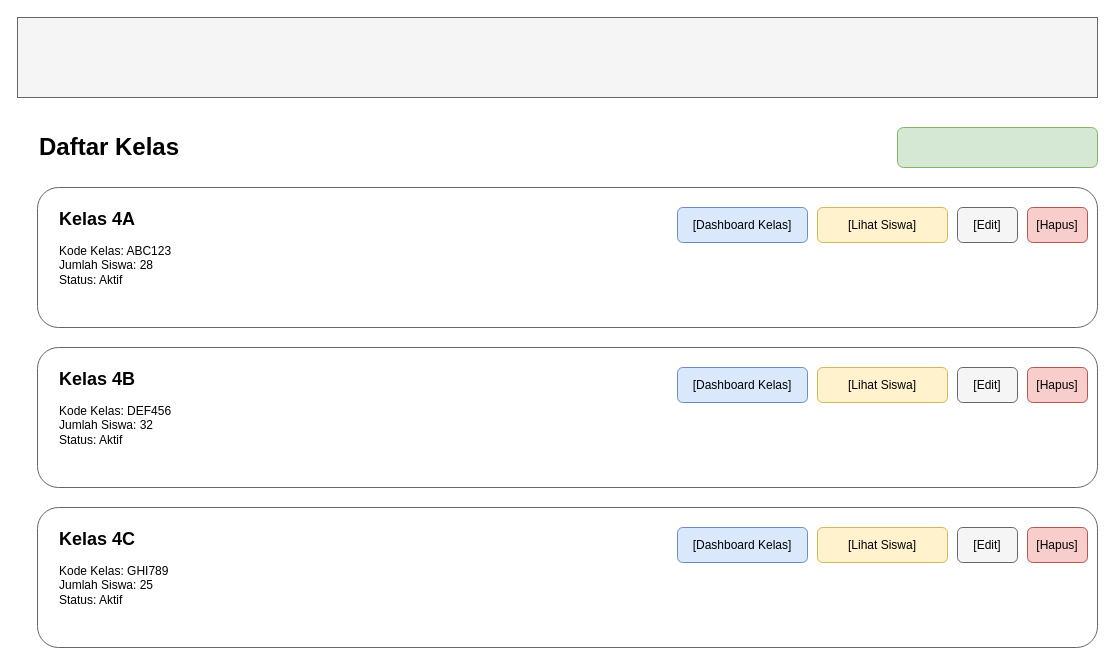
The diagram is 1115 pixels wide and 665 high, and some of its shapes have lost their labels. Here are the shapes that lost their labels. From the top down, the box of each, then its label:
(16, 16, 1098, 98): DashboardGuru | Manajemen Kelas
(896, 126, 1098, 168): + Tambah Kelas Baru
